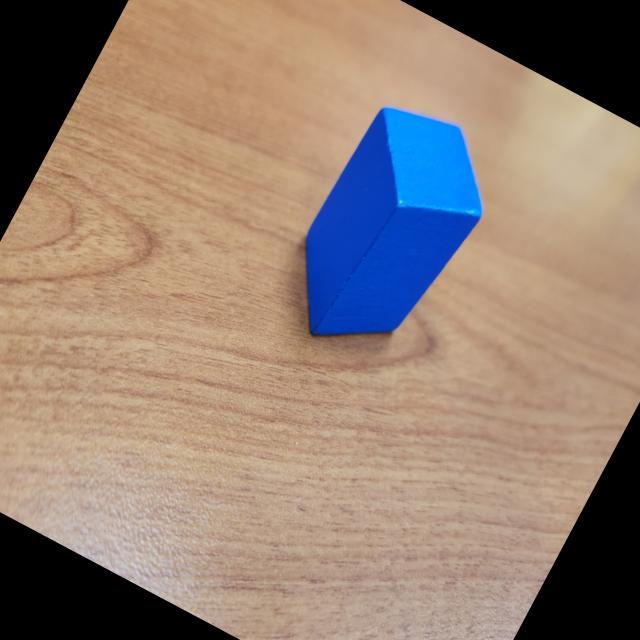blue: (263, 85, 513, 378)
